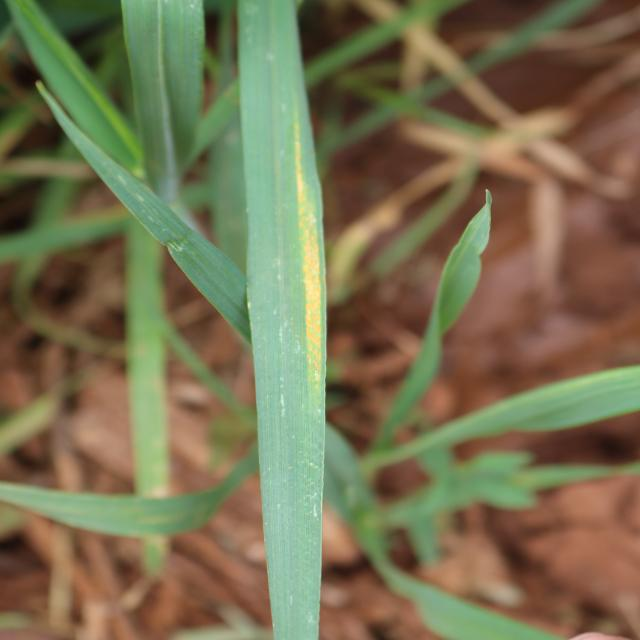Stripe Rust: (304, 231, 324, 360), (294, 121, 306, 215)
